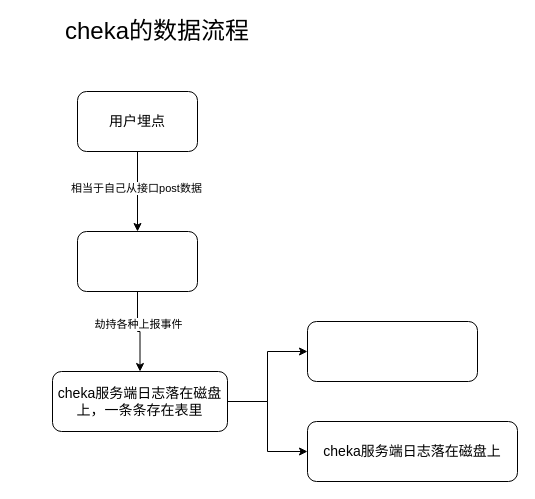
The diagram is 535 pixels wide and 499 high, and some of its shapes have lost their labels. Here are the shapes that lost their labels. From the top down, the box of each, then its label:
(76, 230, 198, 292): cheka
(306, 320, 478, 382): hubble
